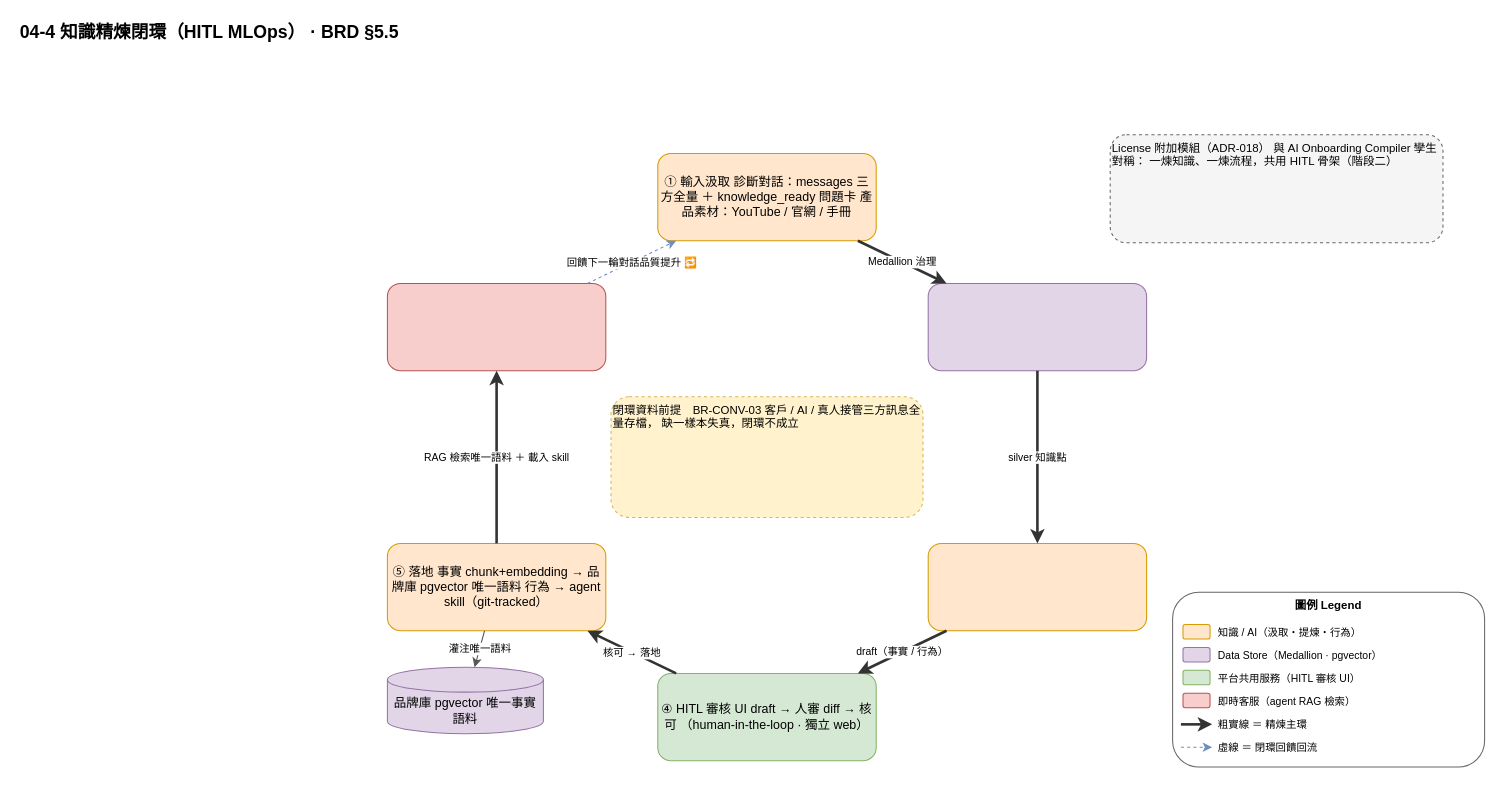
Some shapes in this 1503 by 785 pixel diagram are drawn without their labels. The shapes that lost their labels are listed below. From the top down, each one's centre as x and y in pixels, then its label:
pixel 496 326: ⑥ agent RAG-via-MCP 檢索 （🔜 pgvector 語義層 · Phase 2）
pixel 1037 326: ② Medallion raw → bronze → silver
pixel 1037 586: ③ LLM 提煉分流 事實 vs 行為 / 精選
